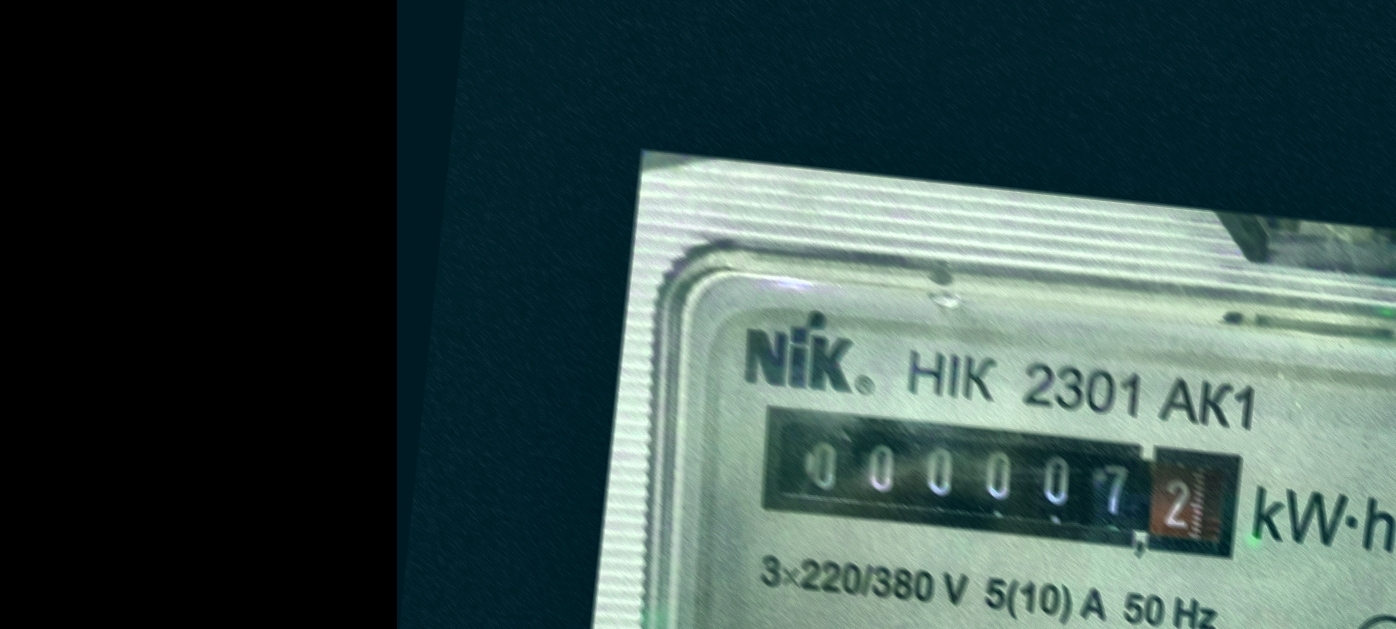0: (863, 439, 903, 495), (923, 443, 960, 499), (981, 447, 1018, 503), (1039, 453, 1076, 509), (807, 438, 844, 492)
2: (1161, 478, 1196, 531)
7: (1097, 461, 1132, 518)
screen: (739, 386, 1265, 580)
